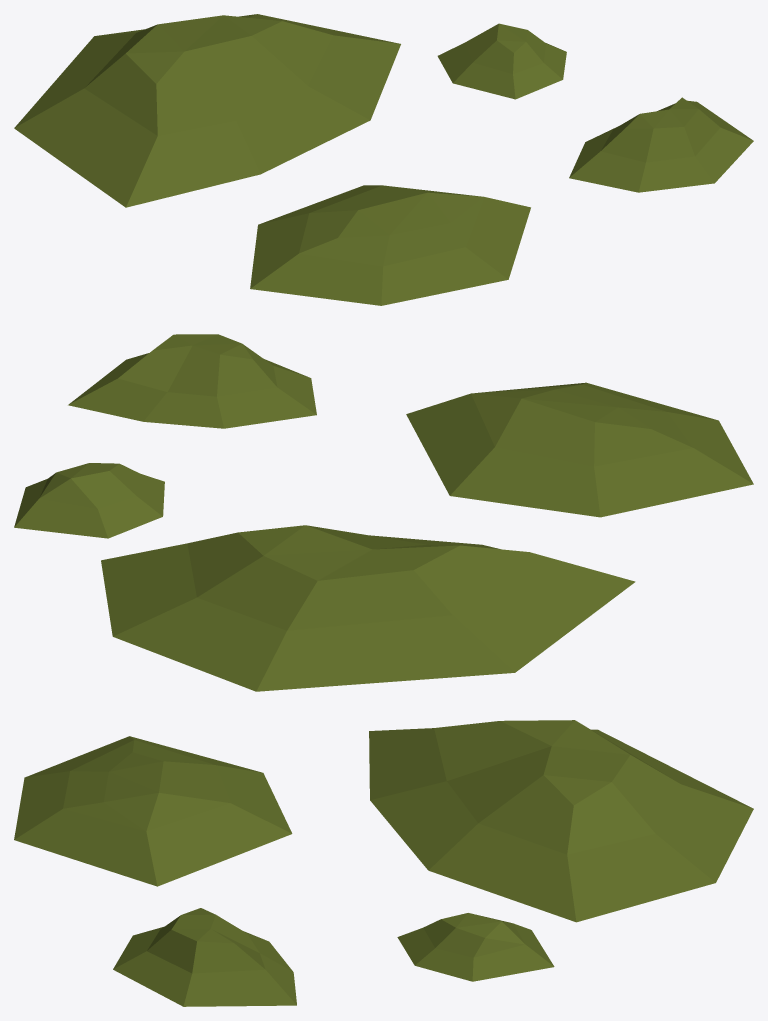
Rendered from EA03_Environment_Moss_01.glb.
3 views of the same model, one above another, from view 1: azimuth 30°, elevation 25°; view 2: azimuth 150°, elevation 25°; view 3: azimuth 270°, elevation 25° (orthographic). The views are drawn at different scales.
Parts seen in each view (by area): view 1: EA03_Environment_Moss_01; view 2: EA03_Environment_Moss_01; view 3: EA03_Environment_Moss_01.
Part boxes in pixels (left/top/right/bottom): EA03_Environment_Moss_01: left=14, top=14, right=753, bottom=305; EA03_Environment_Moss_01: left=14, top=334, right=753, bottom=691; EA03_Environment_Moss_01: left=14, top=720, right=753, bottom=1006.
Size of the model in its own units: 2.88 by 0.3042 by 3.25.
Materials: 1 (1 with a texture image).
